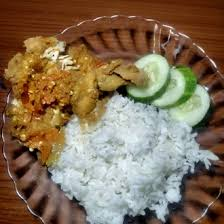ayam_geprek: (6, 24, 123, 168)
